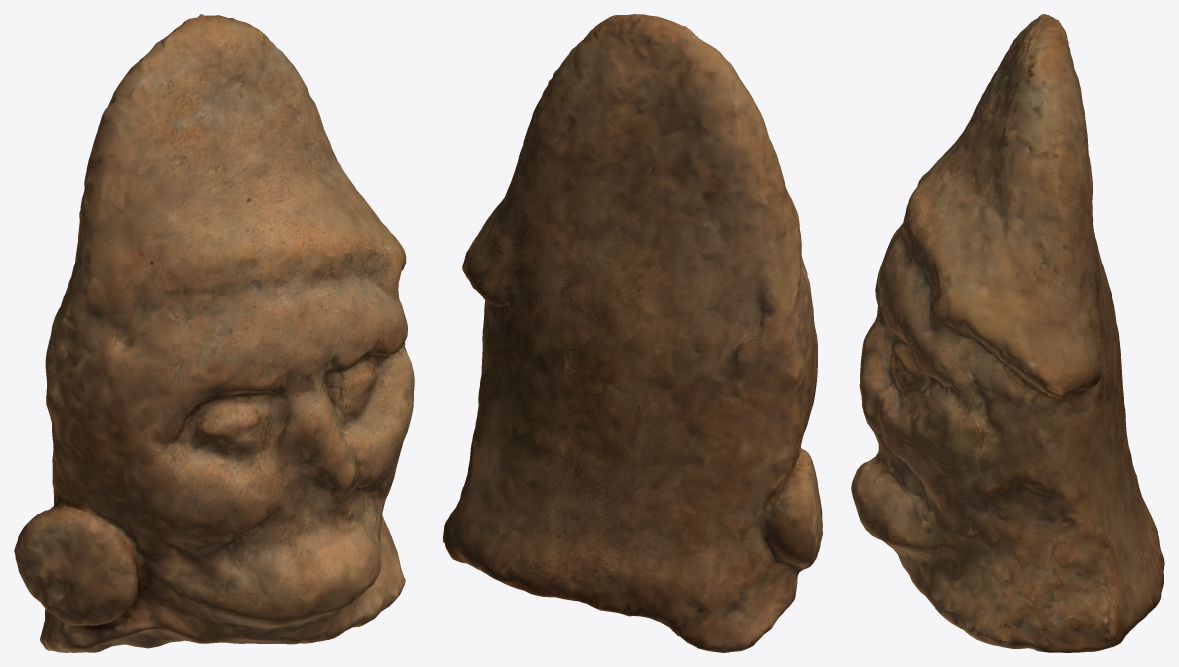
The picture shows the model from 3 angles, left to right: view 1: azimuth 30°, elevation 25°; view 2: azimuth 150°, elevation 25°; view 3: azimuth 270°, elevation 25°; orthographic projection. The views are drawn at different scales.
Visible parts, largest first — view 1: Mesh_0.021; view 2: Mesh_0.021; view 3: Mesh_0.021.
Boxes of the visible parts, <box> form: Mesh_0.021: <box>14,14,414,652</box>; Mesh_0.021: <box>443,14,822,652</box>; Mesh_0.021: <box>851,14,1164,652</box>.
Size of the model in its own units: 0.1569 by 0.25 by 0.1236.
Materials: 1 (1 with a texture image).
